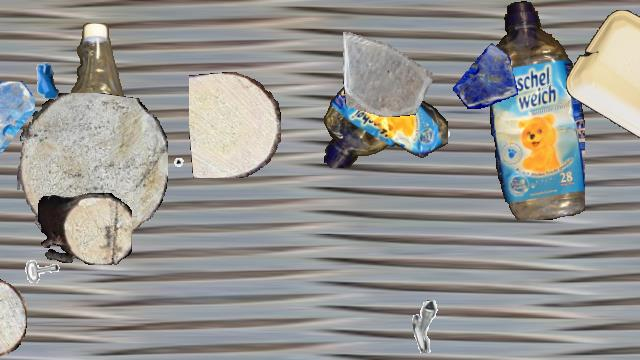glass: (343, 27, 433, 117), (452, 42, 518, 108), (0, 81, 34, 165)
metal: (513, 98, 573, 158), (18, 51, 74, 107), (412, 299, 466, 353), (22, 255, 68, 301), (414, 100, 454, 140), (170, 156, 210, 196), (0, 195, 15, 255)
plastic: (490, 1, 584, 219), (50, 23, 132, 221), (322, 77, 448, 167), (566, 10, 640, 152)
wood: (17, 93, 167, 245), (189, 72, 281, 178), (38, 193, 132, 265), (0, 279, 26, 359)
